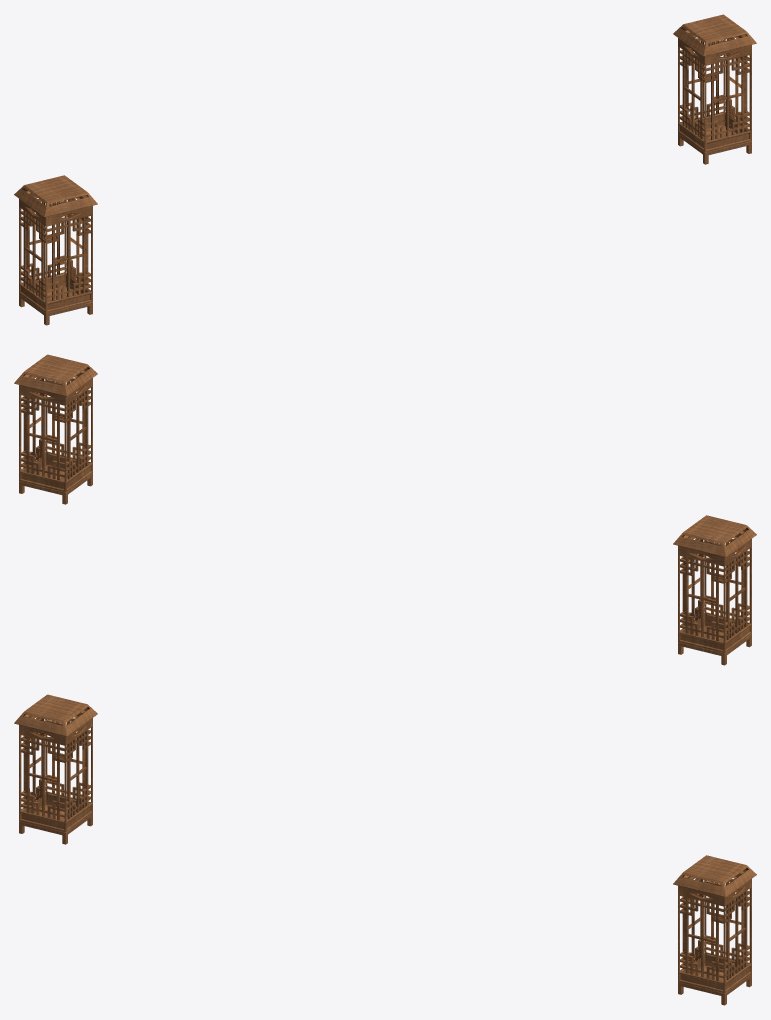
The model's file is TraditionalKoreanHouse_LightA.fbx.
The picture shows the model from 3 angles, top to bottom: view 1: azimuth 30°, elevation 25°; view 2: azimuth 150°, elevation 25°; view 3: azimuth 330°, elevation 25°; orthographic projection.
Visible parts, largest first — view 1: TraditionalKoreanHouse_LightA; view 2: TraditionalKoreanHouse_LightA; view 3: TraditionalKoreanHouse_LightA.
Boxes of the visible parts, x1,y1,x2,y2 form: TraditionalKoreanHouse_LightA: (14,14,756,325); TraditionalKoreanHouse_LightA: (14,354,756,665); TraditionalKoreanHouse_LightA: (14,694,756,1005).
Bounding box in the file's own units: 377 × 61.47 × 28.3.
